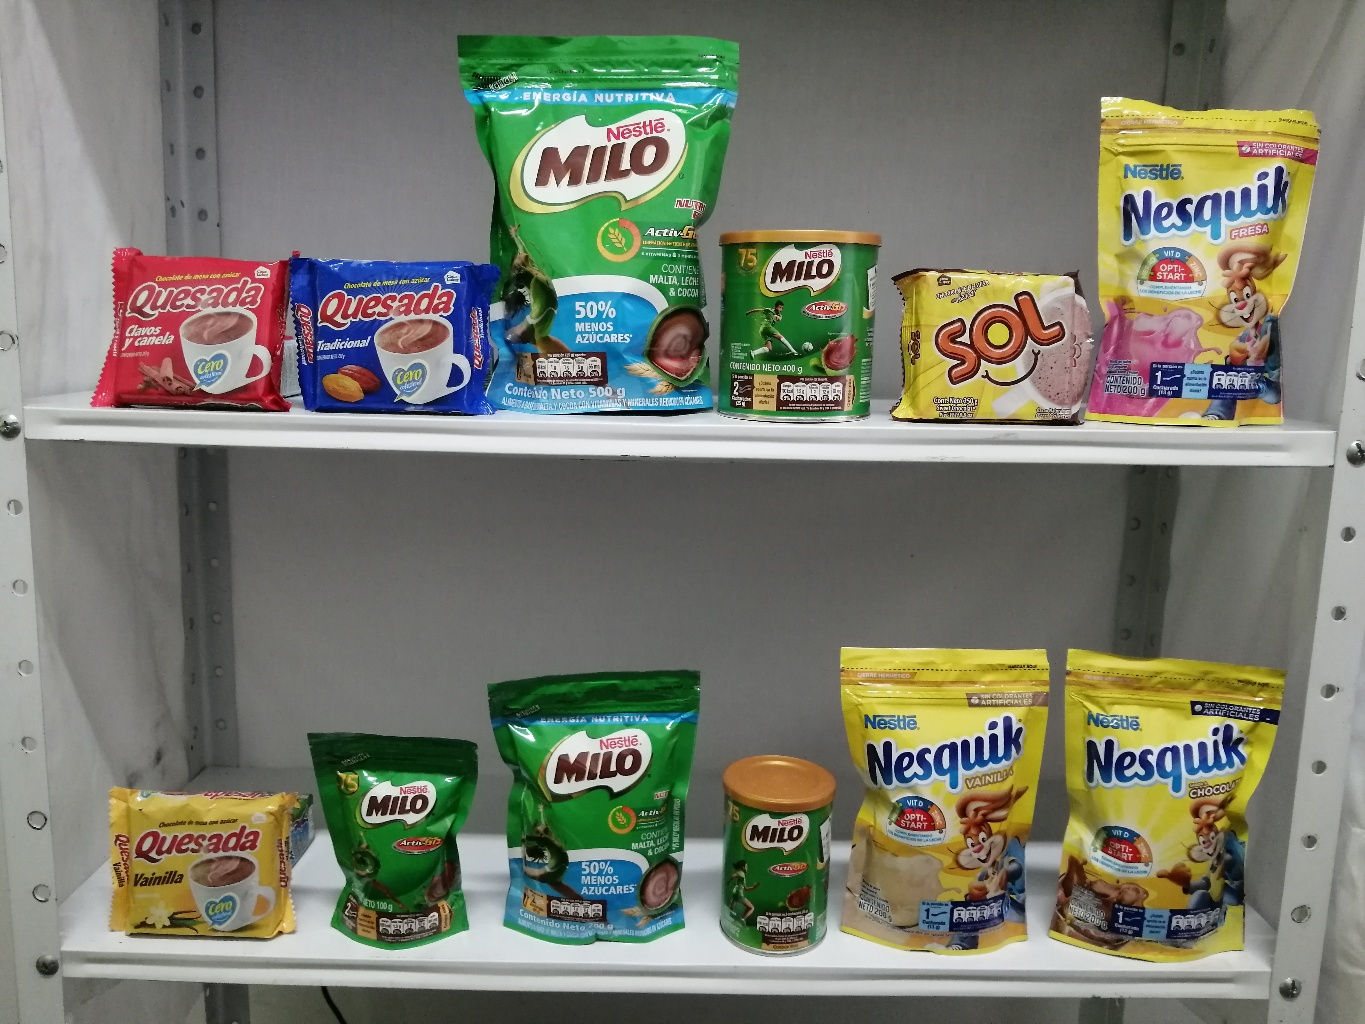COL0170203DYP10000: (295, 714, 477, 950)
COL0170203LAT20000: (699, 734, 847, 963)
COL0170203LAT40000: (720, 213, 885, 433)
COL0170205DYP20000: (479, 652, 715, 955)
COL0170205DYP50000: (449, 28, 733, 425)
COL0170303DYP20000: (1048, 640, 1290, 987)
COL0170305DYP20000: (1093, 89, 1327, 441)
COL0170306DYP20000: (831, 632, 1066, 955)
